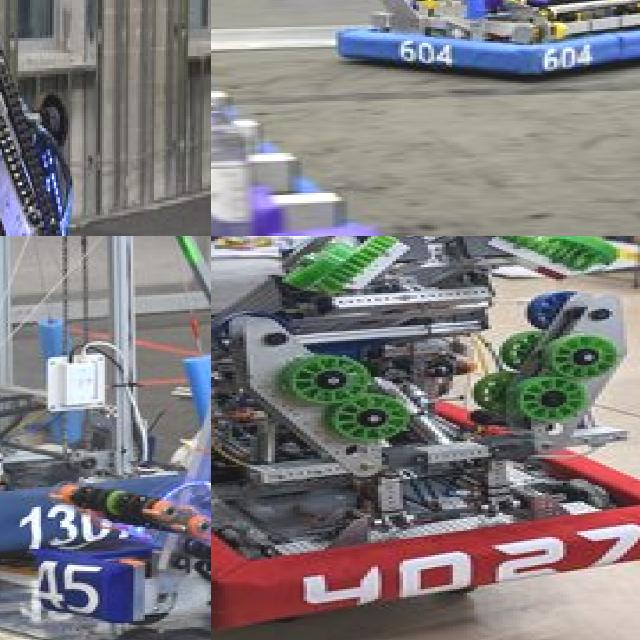FRC-Robots: (211, 236, 640, 637), (0, 236, 211, 599), (64, 236, 211, 640), (0, 0, 211, 236), (299, 0, 640, 79)
